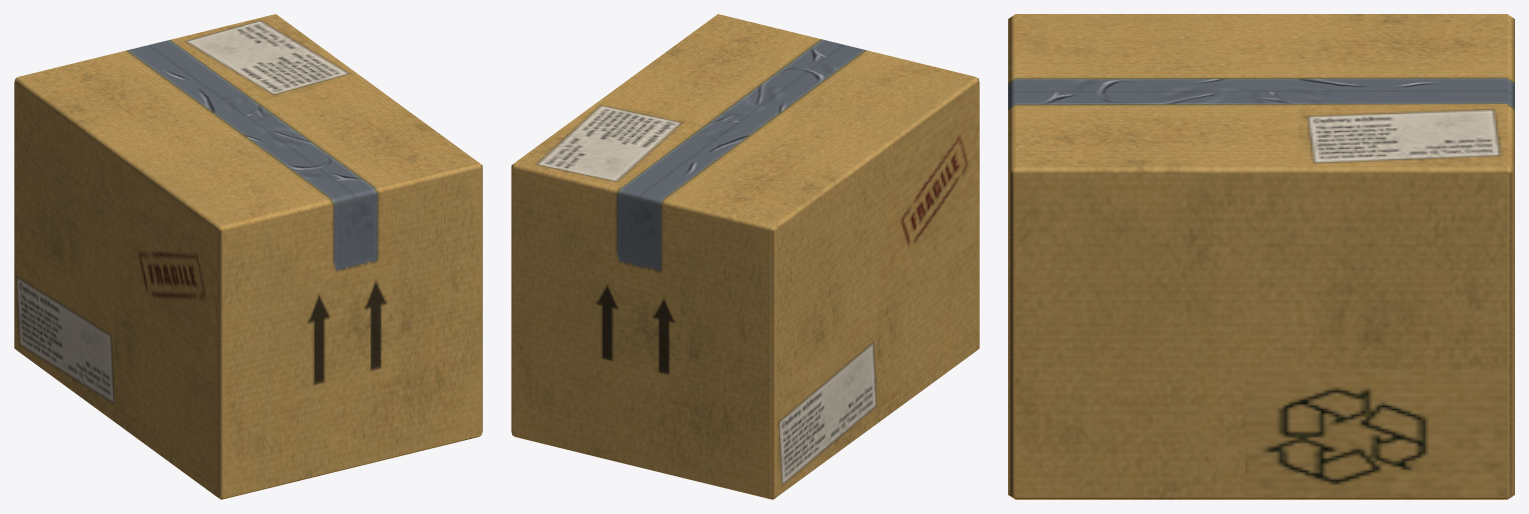
File: cardboard_05.fbx
3 renders of one model, left to right at view 1: azimuth 30°, elevation 25°; view 2: azimuth 150°, elevation 25°; view 3: azimuth 270°, elevation 25°, orthographic. The views are drawn at different scales.
Visible parts, largest first — view 1: cardboard_05; view 2: cardboard_05; view 3: cardboard_05.
Part boxes in pixels (left/top/right/bottom): cardboard_05: left=14, top=14, right=482, bottom=499; cardboard_05: left=511, top=14, right=979, bottom=499; cardboard_05: left=1008, top=14, right=1514, bottom=499.
Bounding box in the file's own units: 72.02 × 71.27 × 98.15.
